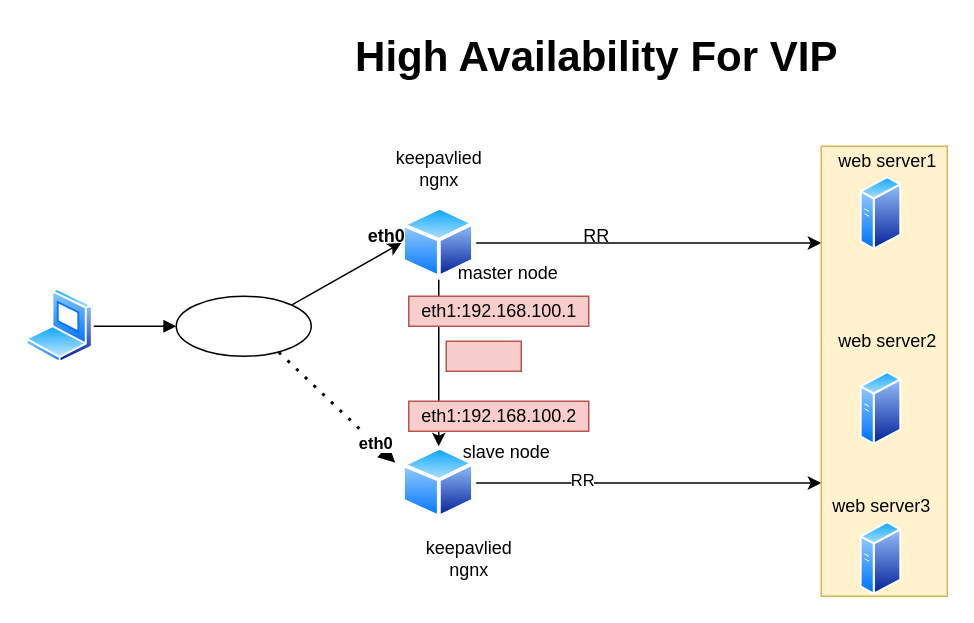
This 974x623 diagram has some shape labels left out. The shapes that lost their labels are listed below. From the top down, each one's centre as x and y in pixels, then its label:
At [243,325]: "10.117.5.123 public IP".
At [483,355]: "VRRP".
